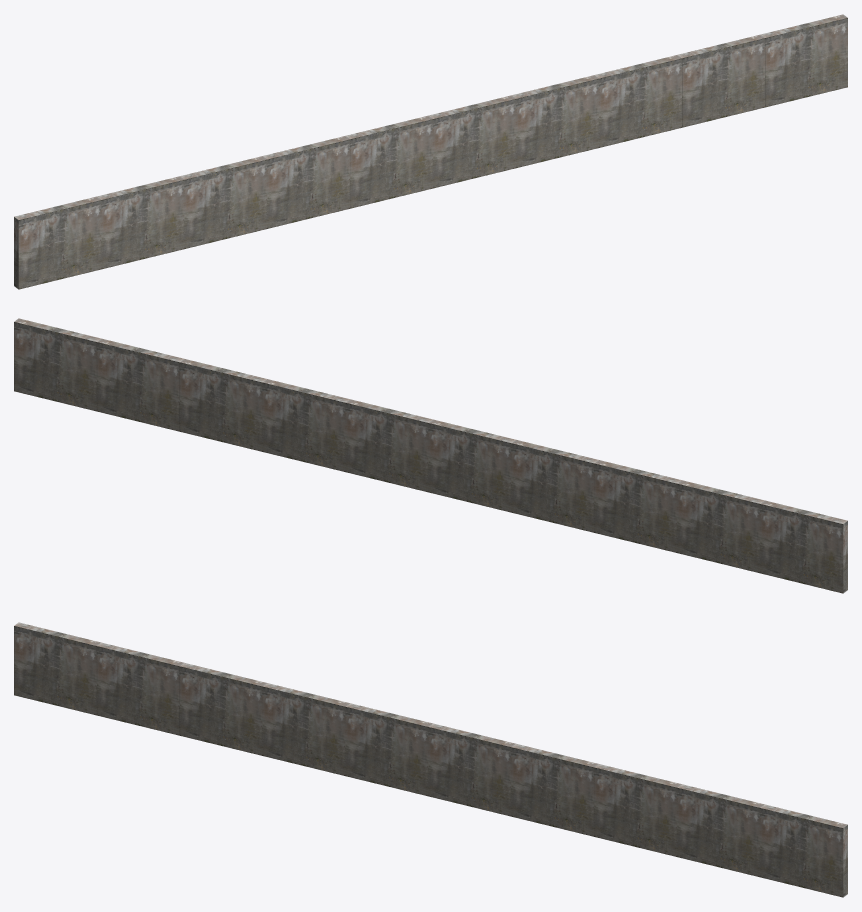
Rendered from wall.FBX.
The picture shows the model from 3 angles, top to bottom: view 1: azimuth 30°, elevation 25°; view 2: azimuth 150°, elevation 25°; view 3: azimuth 330°, elevation 25°; orthographic projection.
Visible parts, largest first — view 1: Box02; view 2: Box02; view 3: Box02.
Boxes of the visible parts, x1,y1,x2,y2 form: Box02: [14, 14, 847, 289]; Box02: [14, 318, 847, 593]; Box02: [14, 622, 847, 897].
Size of the model in its own units: 100 by 8 by 1.
Materials: 1 (1 with a texture image).
